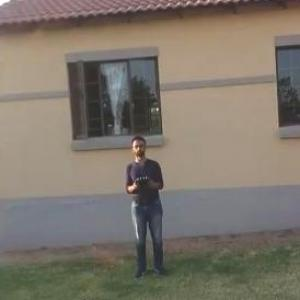follow: (122, 130, 170, 285)
